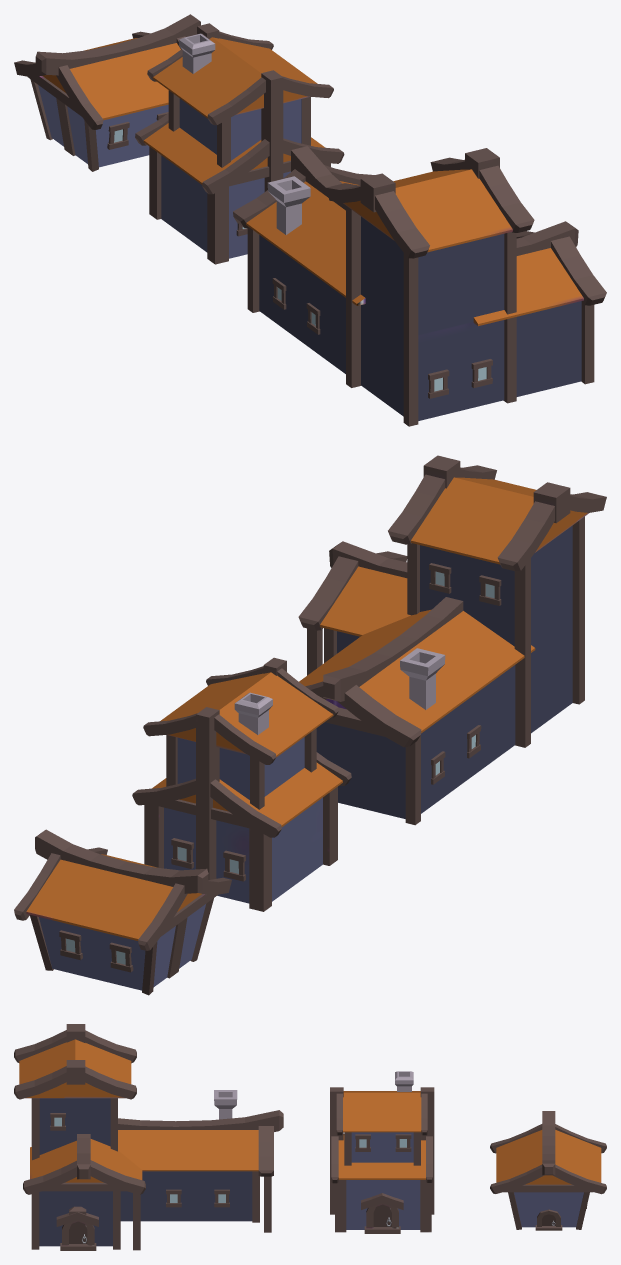
3 views of the same model, one above another, from view 1: azimuth 30°, elevation 25°; view 2: azimuth 150°, elevation 25°; view 3: azimuth 270°, elevation 25° (orthographic). The views are drawn at different scales.
Parts seen in each view (by area): view 1: Casas_0; view 2: Casas_0; view 3: Casas_0.
Part boxes in pixels (x1,y1,x2,y2): Casas_0: [14, 14, 606, 426]; Casas_0: [14, 455, 606, 995]; Casas_0: [14, 1024, 606, 1250].
Bounding box in the file's own units: 6.55 × 6.6 × 22.23.
Materials: 1 (1 with a texture image).
